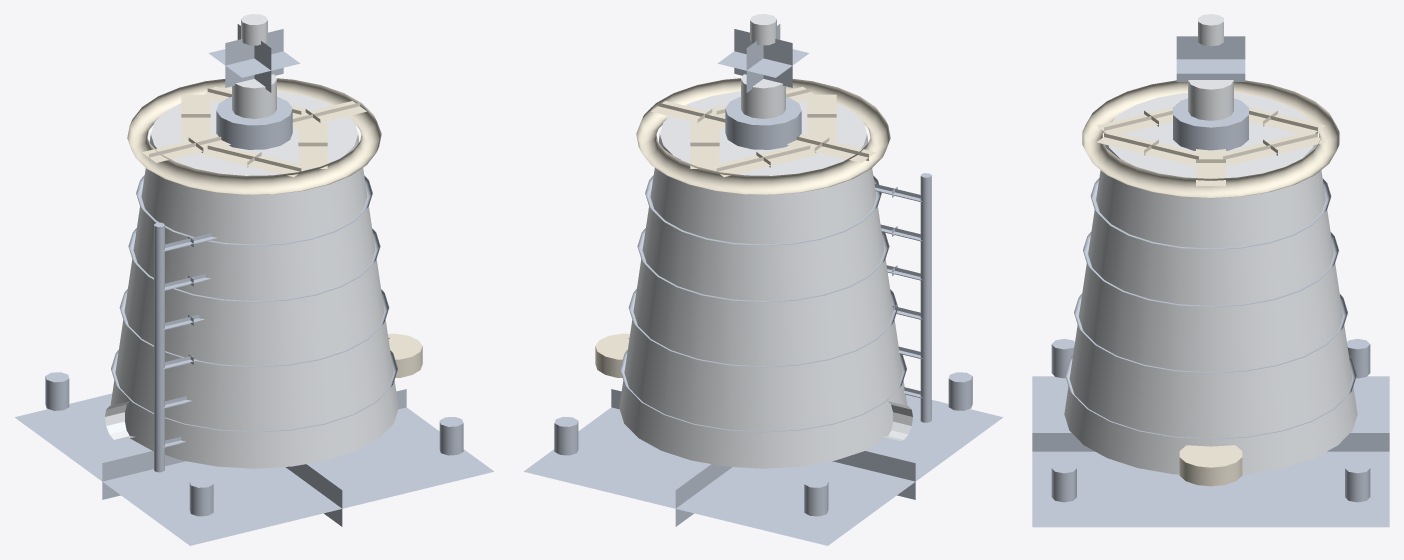
Rendered from cooler.gltf.
3 views of the same model, side by side, from view 1: azimuth 30°, elevation 25°; view 2: azimuth 150°, elevation 25°; view 3: azimuth 270°, elevation 25° (orthographic).
Parts seen in each view (by area): view 1: cooler; view 2: cooler; view 3: cooler.
Part boxes in pixels (x1,y1,x2,y2): cooler: (15,14,493,545); cooler: (524,14,1002,545); cooler: (1032,14,1389,527).
Bounding box in the file's own units: 1.62 × 2.17 × 1.56.
